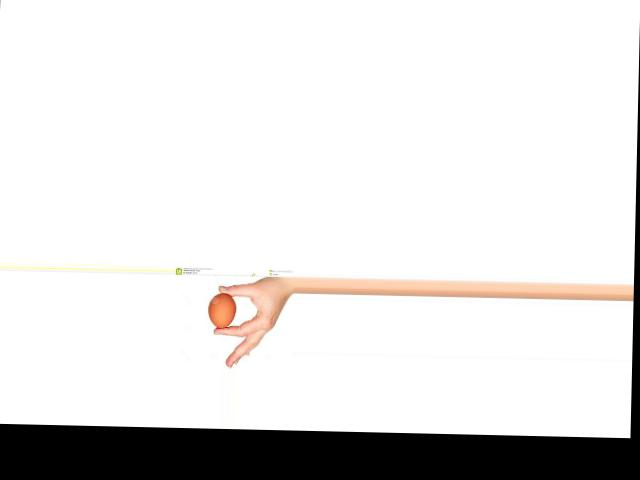egg: (208, 292, 237, 328)
